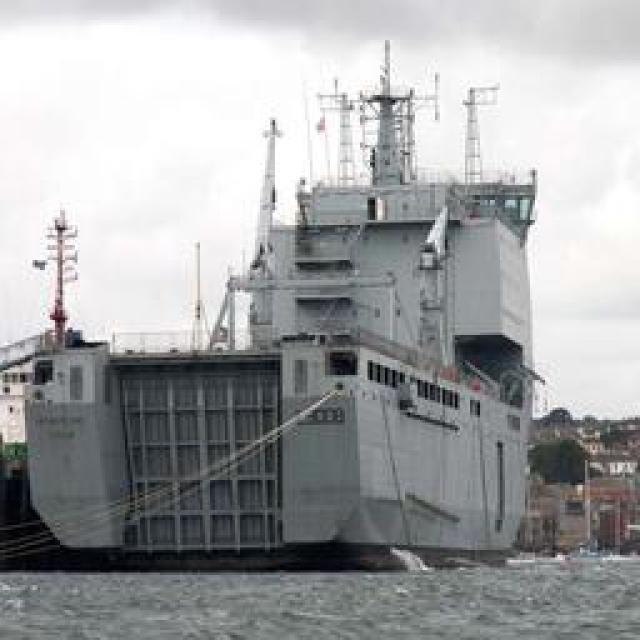Ship: (31, 95, 539, 583)
